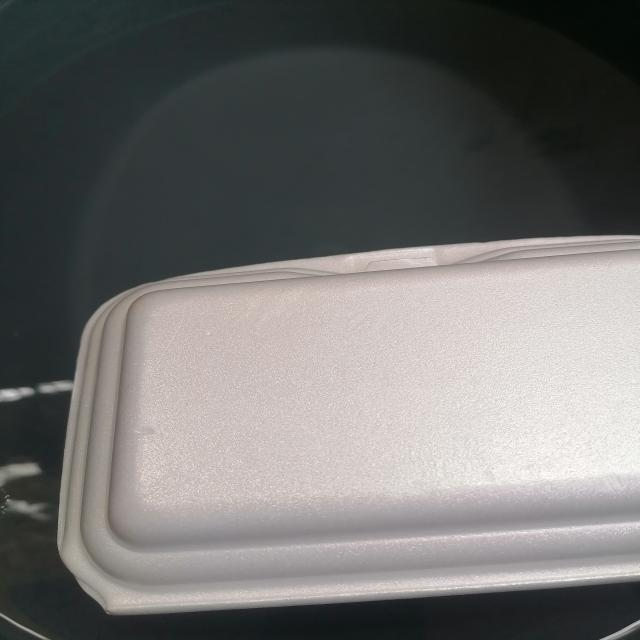Styrofoam Container: (58, 236, 640, 607)
